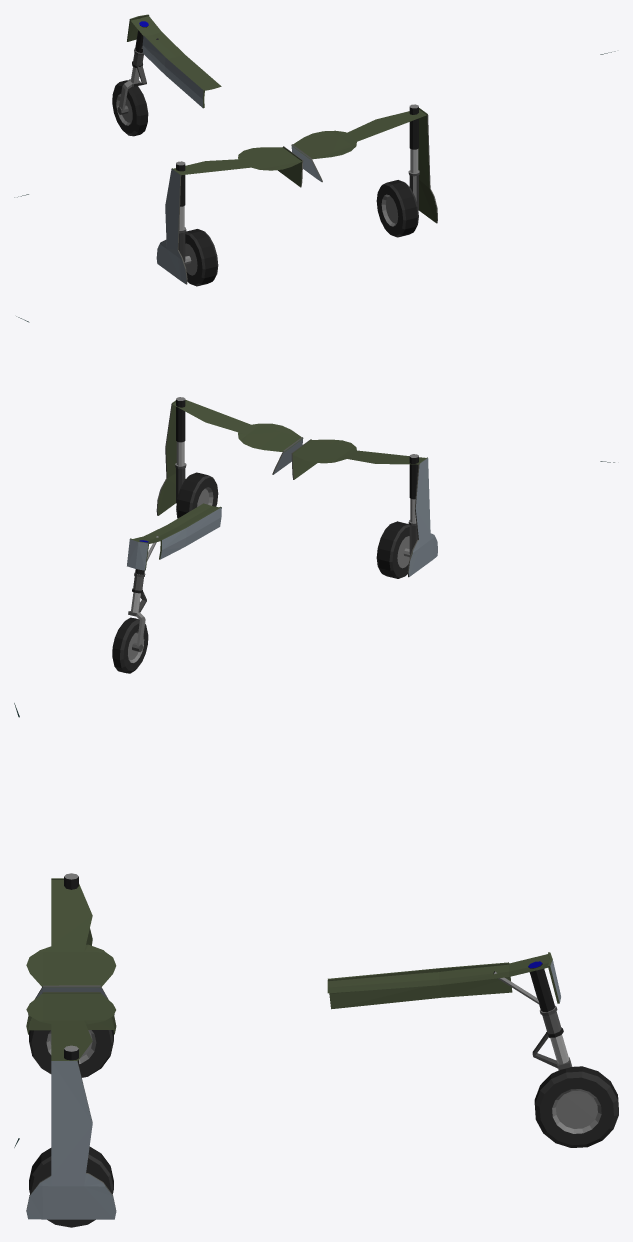
The model's file is Gear_me262a.obj.
3 views of the same model, one above another, from view 1: azimuth 30°, elevation 25°; view 2: azimuth 150°, elevation 25°; view 3: azimuth 270°, elevation 25° (orthographic). The views are drawn at different scales.
Parts seen in each view (by area): view 1: ShapeIndexedFaceSet.072_ShapeIndexedFaceSet.073, ShapeIndexedFaceSet.105_ShapeIndexedFaceSet.106, ShapeIndexedFaceSet.113_ShapeIndexedFaceSet.114, ShapeIndexedFaceSet.086_ShapeIndexedFaceSet.087, ShapeIndexedFaceSet.100_ShapeIndexedFaceSet.101, ShapeIndexedFaceSet.093_ShapeIndexedFaceSet.094, ShapeIndexedFaceSet.101_ShapeIndexedFaceSet.102, ShapeIndexedFaceSet.080_ShapeIndexedFaceSet.081, ShapeIndexedFaceSet.097_ShapeIndexedFaceSet.098, ShapeIndexedFaceSet.081_ShapeIndexedFaceSet.082, ShapeIndexedFaceSet.074_ShapeIndexedFaceSet.075, ShapeIndexedFaceSet.094_ShapeIndexedFaceSet.095; view 2: ShapeIndexedFaceSet.072_ShapeIndexedFaceSet.073, ShapeIndexedFaceSet.105_ShapeIndexedFaceSet.106, ShapeIndexedFaceSet.086_ShapeIndexedFaceSet.087, ShapeIndexedFaceSet.113_ShapeIndexedFaceSet.114, ShapeIndexedFaceSet.093_ShapeIndexedFaceSet.094, ShapeIndexedFaceSet.100_ShapeIndexedFaceSet.101, ShapeIndexedFaceSet.080_ShapeIndexedFaceSet.081, ShapeIndexedFaceSet.083_ShapeIndexedFaceSet.084, ShapeIndexedFaceSet.074_ShapeIndexedFaceSet.075; view 3: ShapeIndexedFaceSet.072_ShapeIndexedFaceSet.073, ShapeIndexedFaceSet.111_ShapeIndexedFaceSet.112, ShapeIndexedFaceSet.087_ShapeIndexedFaceSet.088, ShapeIndexedFaceSet.081_ShapeIndexedFaceSet.082, ShapeIndexedFaceSet.074_ShapeIndexedFaceSet.075, ShapeIndexedFaceSet.094_ShapeIndexedFaceSet.095, ShapeIndexedFaceSet.080_ShapeIndexedFaceSet.081, ShapeIndexedFaceSet.077_ShapeIndexedFaceSet.078, ShapeIndexedFaceSet.101_ShapeIndexedFaceSet.102.
Boxes of the visible parts, left/top/right/bottom form: ShapeIndexedFaceSet.072_ShapeIndexedFaceSet.073: left=131, top=16, right=426, bottom=174; ShapeIndexedFaceSet.105_ShapeIndexedFaceSet.106: left=156, top=169, right=186, bottom=284; ShapeIndexedFaceSet.113_ShapeIndexedFaceSet.114: left=409, top=108, right=436, bottom=223; ShapeIndexedFaceSet.086_ShapeIndexedFaceSet.087: left=142, top=36, right=203, bottom=107; ShapeIndexedFaceSet.100_ShapeIndexedFaceSet.101: left=387, top=107, right=418, bottom=237; ShapeIndexedFaceSet.093_ShapeIndexedFaceSet.094: left=176, top=164, right=216, bottom=285; ShapeIndexedFaceSet.101_ShapeIndexedFaceSet.102: left=376, top=185, right=403, bottom=236; ShapeIndexedFaceSet.080_ShapeIndexedFaceSet.081: left=120, top=25, right=147, bottom=136; ShapeIndexedFaceSet.097_ShapeIndexedFaceSet.098: left=381, top=104, right=419, bottom=226; ShapeIndexedFaceSet.081_ShapeIndexedFaceSet.082: left=112, top=85, right=136, bottom=133; ShapeIndexedFaceSet.074_ShapeIndexedFaceSet.075: left=116, top=39, right=156, bottom=125; ShapeIndexedFaceSet.094_ShapeIndexedFaceSet.095: left=185, top=234, right=202, bottom=285; ShapeIndexedFaceSet.072_ShapeIndexedFaceSet.073: left=133, top=399, right=425, bottom=543; ShapeIndexedFaceSet.105_ShapeIndexedFaceSet.106: left=408, top=458, right=437, bottom=576; ShapeIndexedFaceSet.086_ShapeIndexedFaceSet.087: left=160, top=507, right=221, bottom=559; ShapeIndexedFaceSet.113_ShapeIndexedFaceSet.114: left=157, top=400, right=185, bottom=515; ShapeIndexedFaceSet.093_ShapeIndexedFaceSet.094: left=378, top=456, right=418, bottom=578; ShapeIndexedFaceSet.100_ShapeIndexedFaceSet.101: left=176, top=400, right=207, bottom=517; ShapeIndexedFaceSet.080_ShapeIndexedFaceSet.081: left=112, top=542, right=147, bottom=672; ShapeIndexedFaceSet.083_ShapeIndexedFaceSet.084: left=127, top=539, right=148, bottom=570; ShapeIndexedFaceSet.074_ShapeIndexedFaceSet.075: left=128, top=536, right=158, bottom=662; ShapeIndexedFaceSet.072_ShapeIndexedFaceSet.073: left=26, top=880, right=549, bottom=1060; ShapeIndexedFaceSet.111_ShapeIndexedFaceSet.112: left=26, top=1061, right=116, bottom=1219; ShapeIndexedFaceSet.087_ShapeIndexedFaceSet.088: left=328, top=962, right=512, bottom=1009; ShapeIndexedFaceSet.081_ShapeIndexedFaceSet.082: left=539, top=1077, right=613, bottom=1145; ShapeIndexedFaceSet.074_ShapeIndexedFaceSet.075: left=494, top=971, right=601, bottom=1133; ShapeIndexedFaceSet.094_ShapeIndexedFaceSet.095: left=31, top=1030, right=111, bottom=1076; ShapeIndexedFaceSet.080_ShapeIndexedFaceSet.081: left=528, top=963, right=618, bottom=1112; ShapeIndexedFaceSet.077_ShapeIndexedFaceSet.078: left=535, top=1071, right=618, bottom=1147; ShapeIndexedFaceSet.101_ShapeIndexedFaceSet.102: left=31, top=1158, right=111, bottom=1226.
Bounding box in the file's own units: 84.44 × 19.79 × 48.4.
